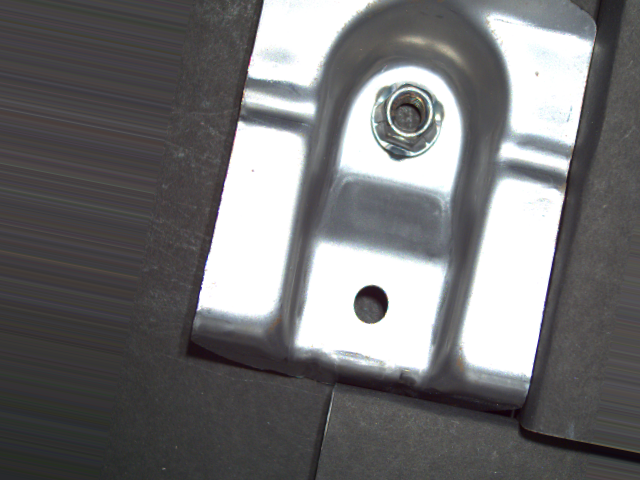good: (370, 79, 449, 161)
